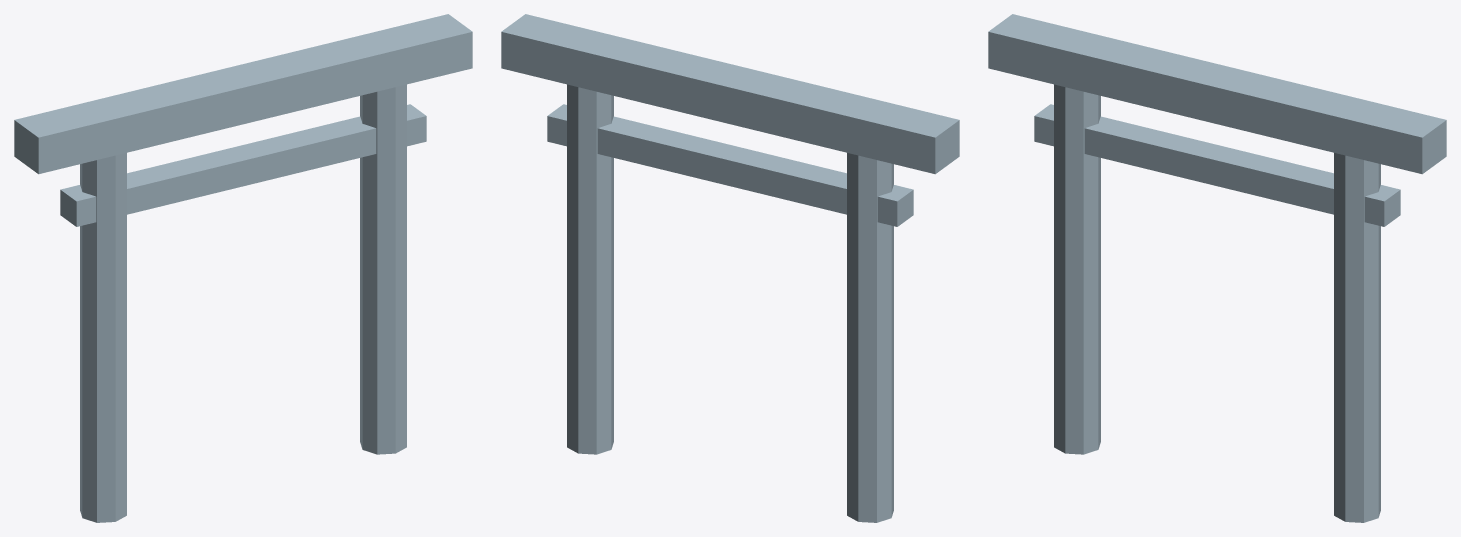
File: bo_torii.fbx
The picture shows the model from 3 angles, left to right: view 1: azimuth 30°, elevation 25°; view 2: azimuth 150°, elevation 25°; view 3: azimuth 330°, elevation 25°; orthographic projection.
Parts seen in each view (by area): view 1: bo_torii; view 2: bo_torii; view 3: bo_torii.
Boxes of the visible parts, <box> form: bo_torii: <box>14,14,472,522</box>; bo_torii: <box>501,14,959,522</box>; bo_torii: <box>988,14,1446,522</box>.
Size of the model in its own units: 6.2 by 5.5 by 0.6.
Materials: 1 (1 with a texture image).
